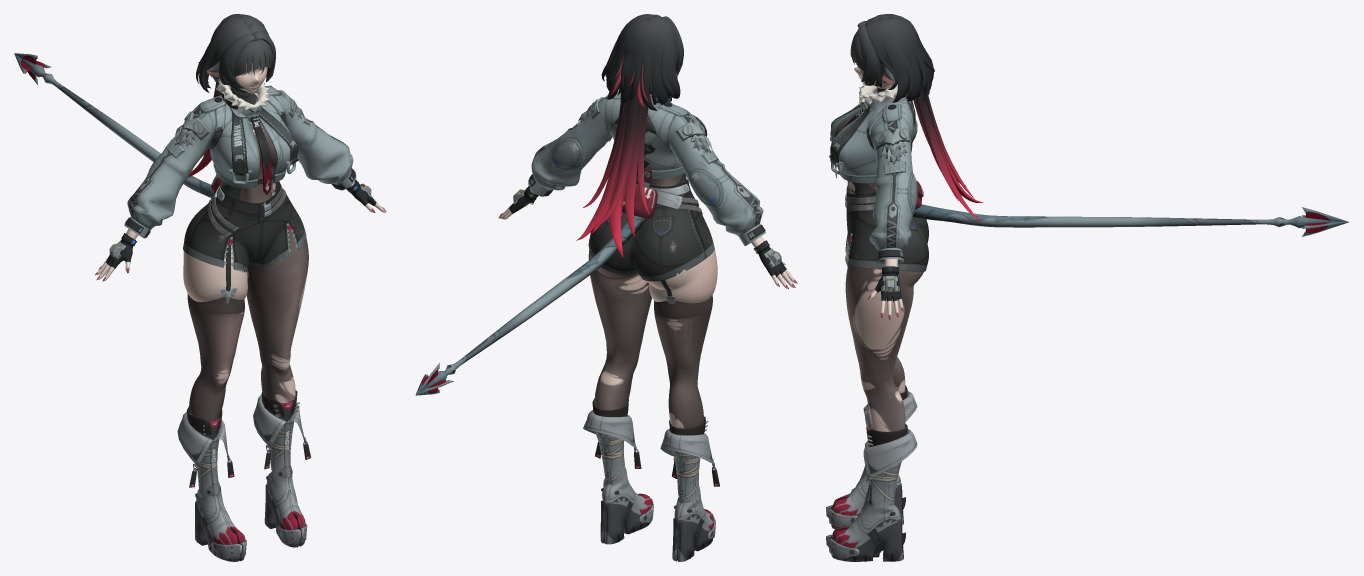
3 views of the same model, side by side, from view 1: azimuth 30°, elevation 25°; view 2: azimuth 150°, elevation 25°; view 3: azimuth 270°, elevation 25° (orthographic). The views are drawn at different scales.
Visible parts, largest first — view 1: Object_5, Object_4, Object_6, Object_7, Object_2, Object_3; view 2: Object_5, Object_7, Object_4, Object_6; view 3: Object_5, Object_4, Object_7, Object_6, Object_2.
Part boxes in pixels (bbox=[...]): Object_5: bbox=[14, 53, 311, 561]; Object_4: bbox=[124, 85, 356, 303]; Object_6: bbox=[183, 88, 306, 421]; Object_7: bbox=[95, 14, 386, 281]; Object_2: bbox=[216, 77, 299, 543]; Object_3: bbox=[235, 62, 267, 93]; Object_5: bbox=[415, 142, 719, 561]; Object_7: bbox=[498, 14, 797, 289]; Object_4: bbox=[528, 92, 765, 303]; Object_6: bbox=[588, 173, 714, 428]; Object_5: bbox=[826, 78, 1349, 561]; Object_4: bbox=[829, 92, 917, 266]; Object_7: bbox=[850, 14, 983, 319]; Object_6: bbox=[845, 87, 928, 393]; Object_2: bbox=[835, 84, 905, 557].
Bounding box in the file's own units: 1.03 × 1.75 × 1.59.
4 materials, 4 textured.
